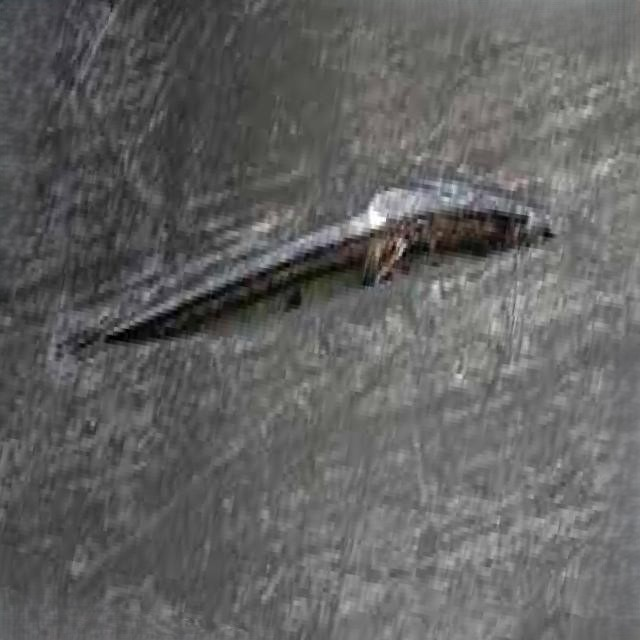Tear: (52, 116, 590, 394)
